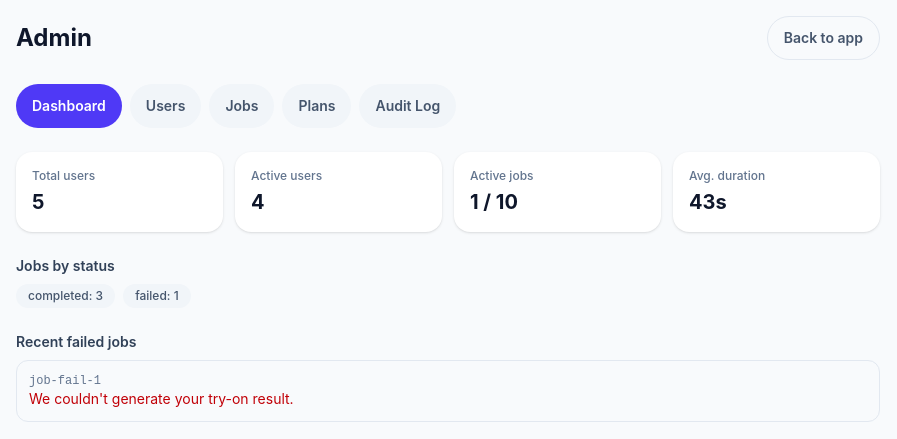
it: AdminScreen — users tab › lets an admin disable an active user, and the row updates to reflect it
Step 1. Click the button "users" → (166, 106), box [130,84,201,128]
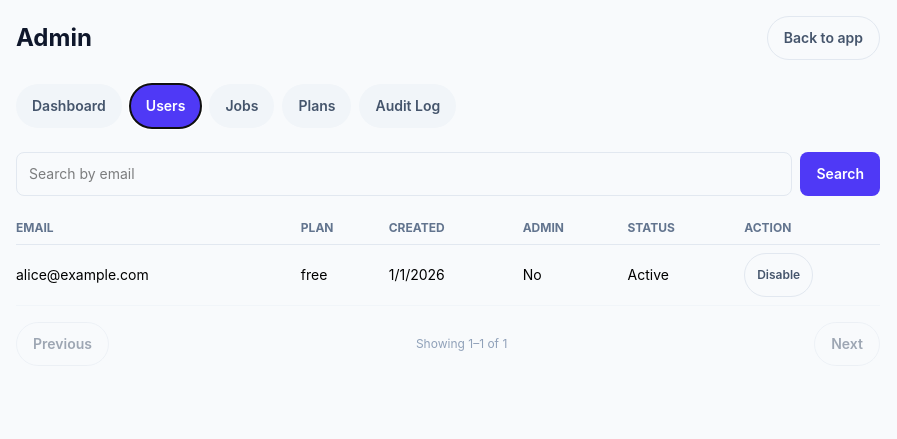
Check: the text "alice@example.com" is shown, box [16,244,301,306]
Step 2. Click the button "Disable" → (779, 275), box [744,253,813,297]
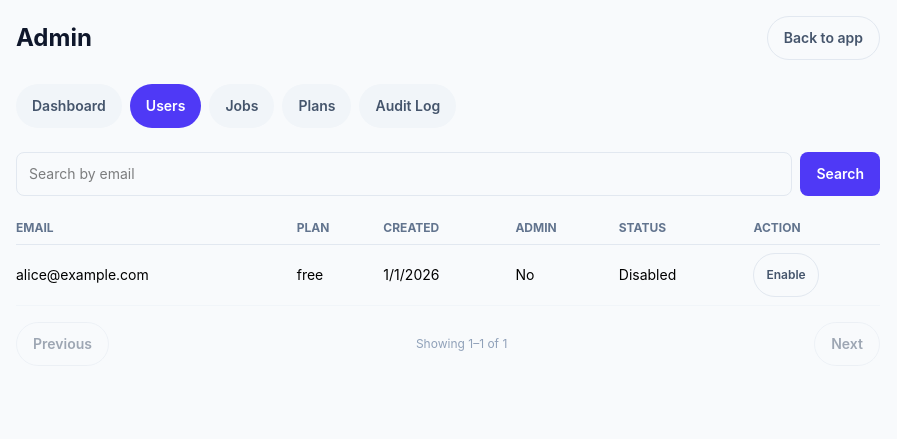
Check: the button "Enable" is shown, box [754,253,819,297]
